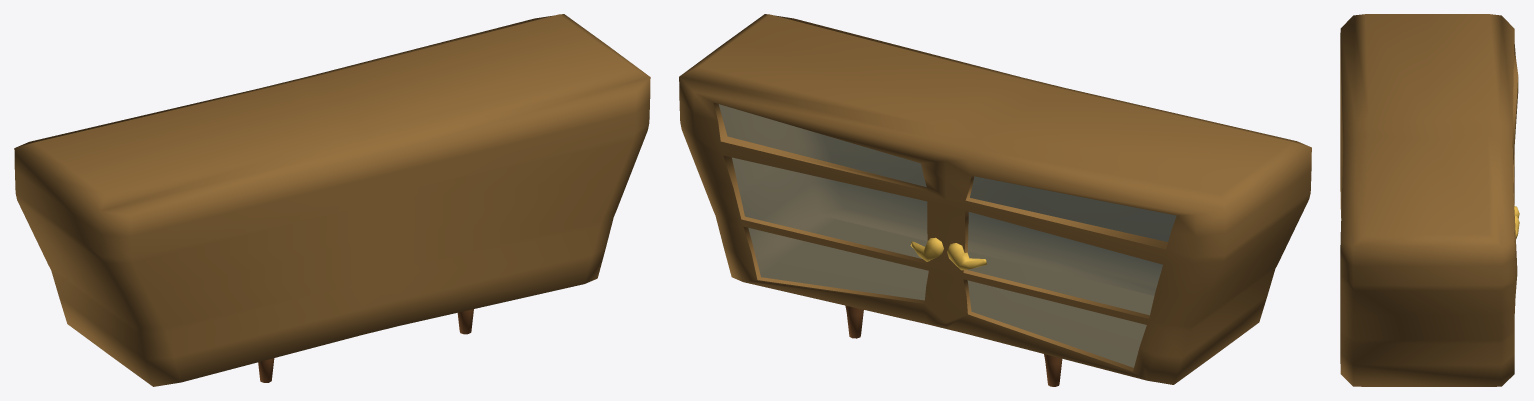
Rendered from grande_armoire_horizontale.fbx.
3 renders of one model, left to right at view 1: azimuth 30°, elevation 25°; view 2: azimuth 150°, elevation 25°; view 3: azimuth 270°, elevation 25°, orthographic. The views are drawn at different scales.
Visible parts, largest first — view 1: Grande_Armoire_Horizontale; view 2: Grande_Armoire_Horizontale; view 3: Grande_Armoire_Horizontale.
Part boxes in pixels (x1=…): Grande_Armoire_Horizontale: x1=14, y1=14, x2=650, y2=386; Grande_Armoire_Horizontale: x1=679, y1=14, x2=1311, y2=386; Grande_Armoire_Horizontale: x1=1340, y1=14, x2=1519, y2=386.
Size of the model in its own units: 4.7 by 1.54 by 1.91.
